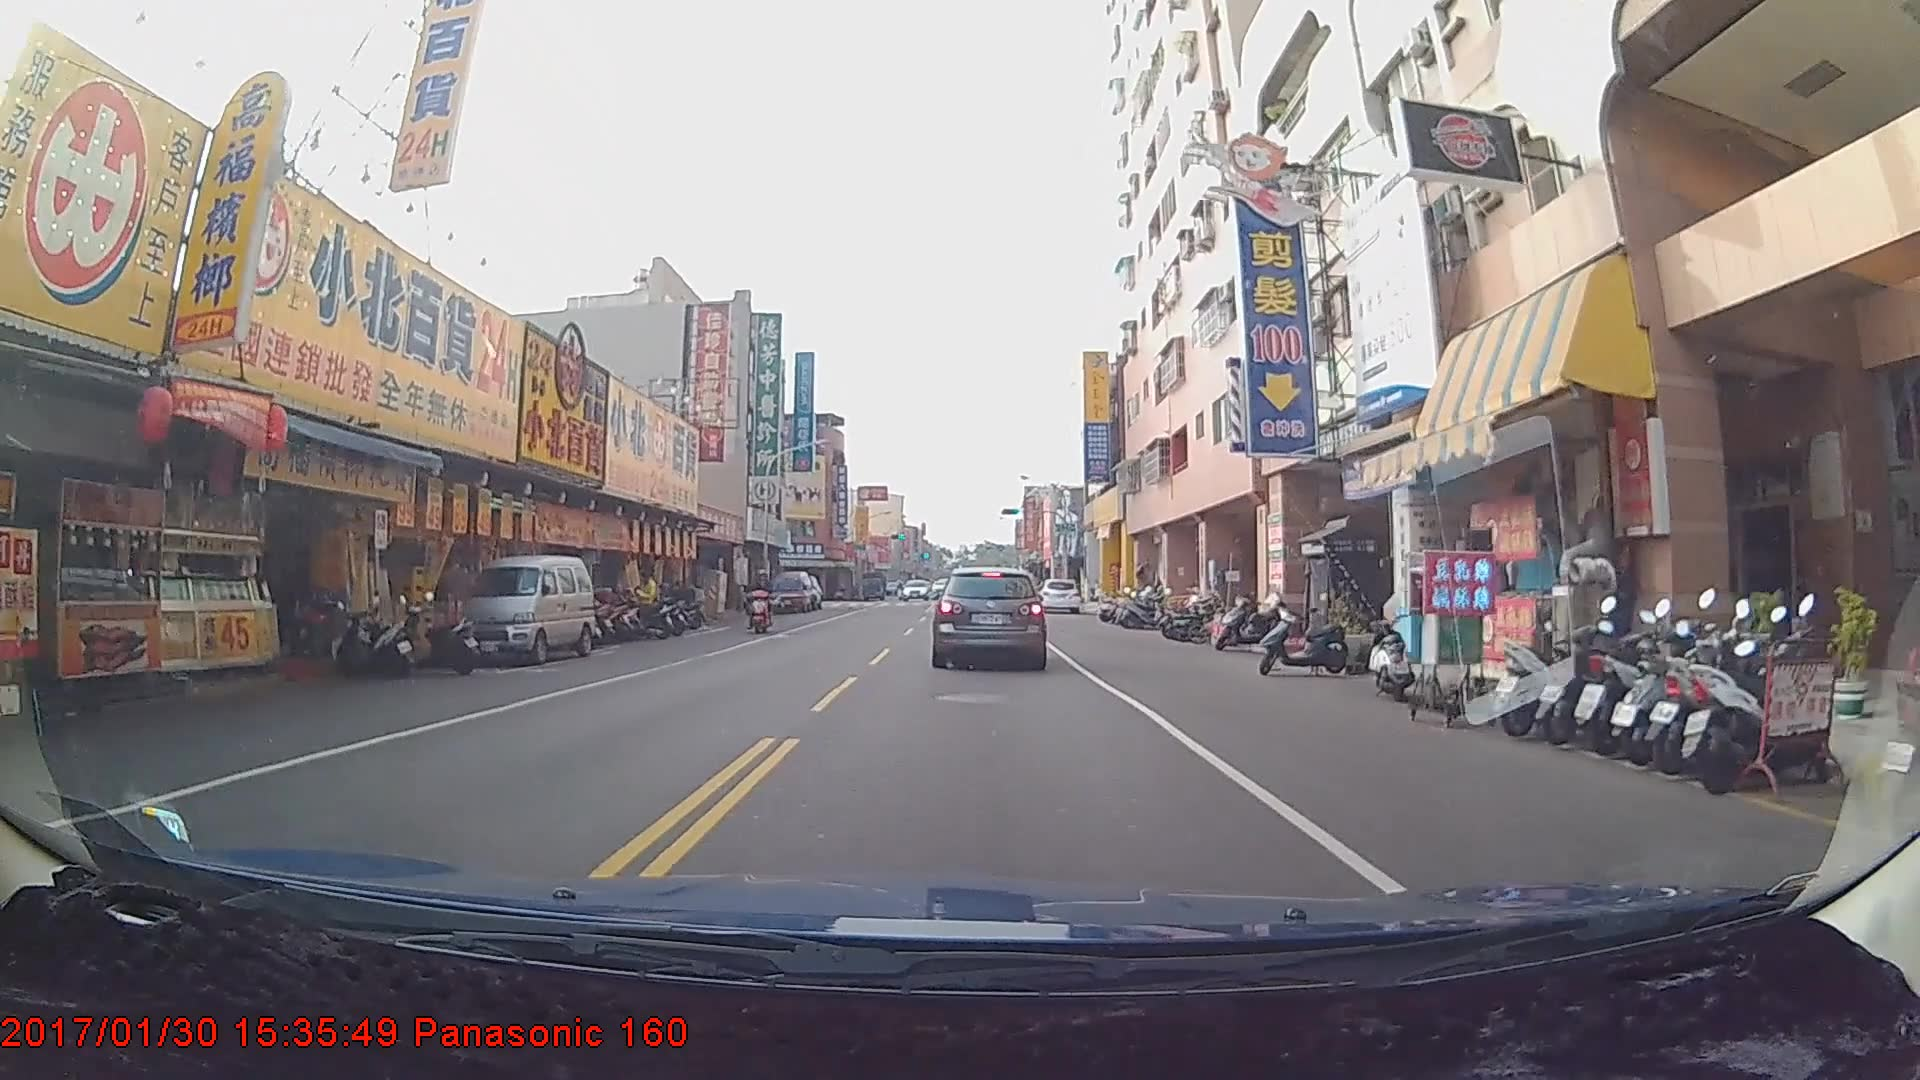pedestrian: (627, 568, 660, 634)
rider: (751, 564, 783, 633)
vehicle: (448, 552, 591, 665), (932, 563, 1047, 670), (769, 571, 813, 614), (1036, 578, 1081, 616), (901, 579, 929, 601)
